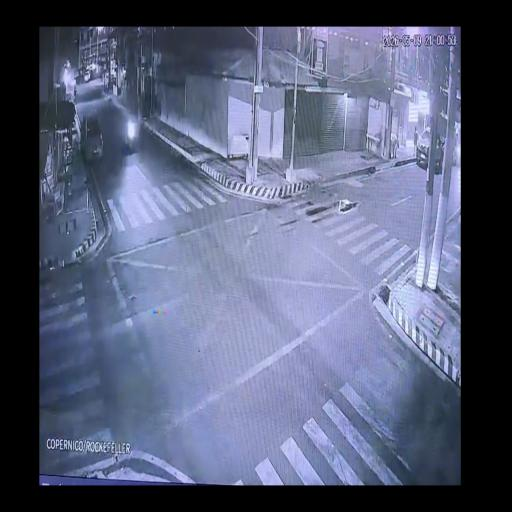Motor: (118, 112, 140, 156)
